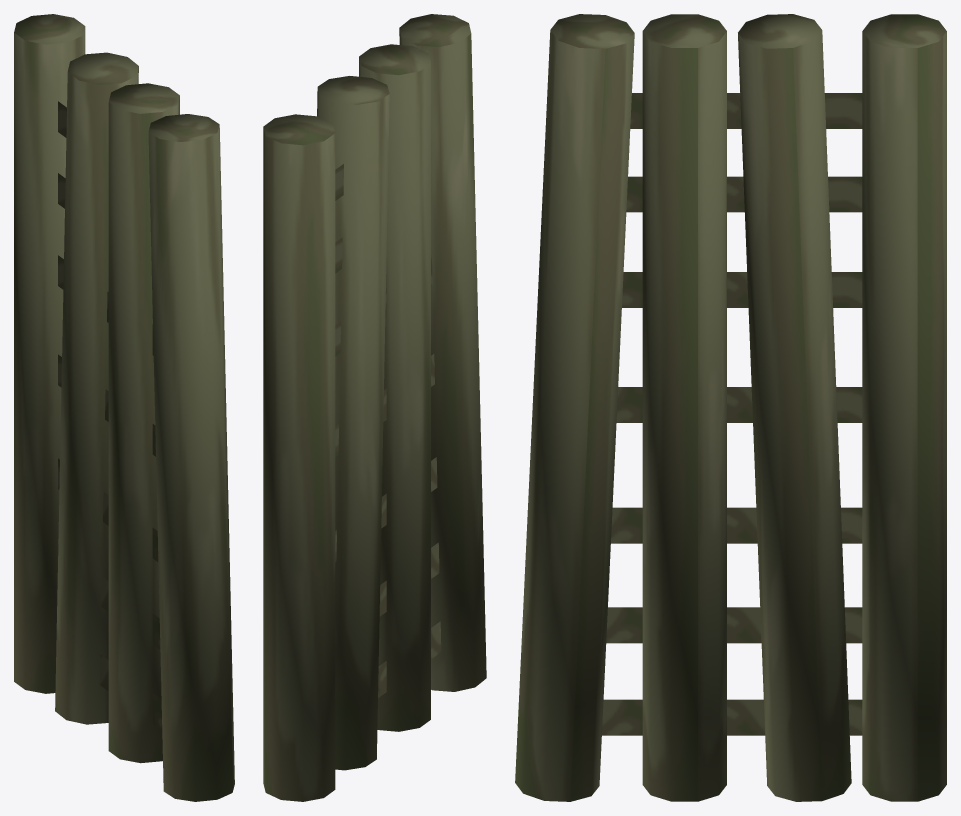
File: Hondonada_PuenteLevadizo.fbx
3 renders of one model, left to right at view 1: azimuth 30°, elevation 25°; view 2: azimuth 150°, elevation 25°; view 3: azimuth 270°, elevation 25°, orthographic. The views are drawn at different scales.
Visible parts, largest first — view 1: puente2.008; view 2: puente2.008; view 3: puente2.008.
Part boxes in pixels (x1,y1,x2,y2): puente2.008: (14, 14, 234, 801); puente2.008: (263, 14, 486, 801); puente2.008: (515, 14, 946, 801).
Bounding box in the file's own units: 77.95 × 809 × 419.
